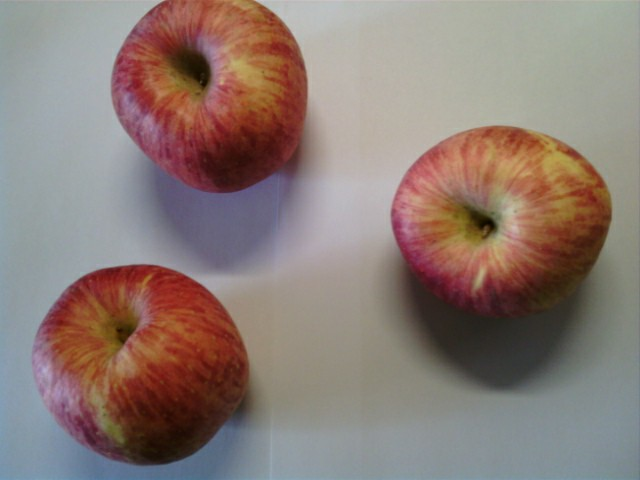normal_apple: (33, 263, 249, 470), (388, 123, 617, 318), (110, 1, 308, 194)
